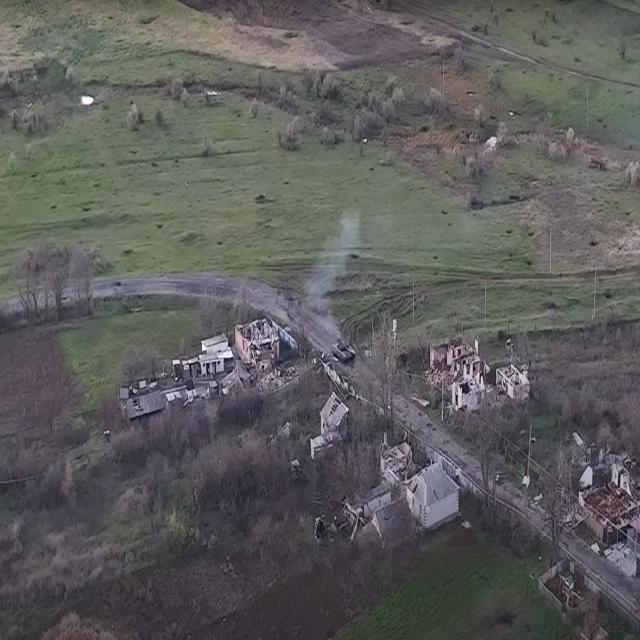MBT: (332, 337, 358, 367)
